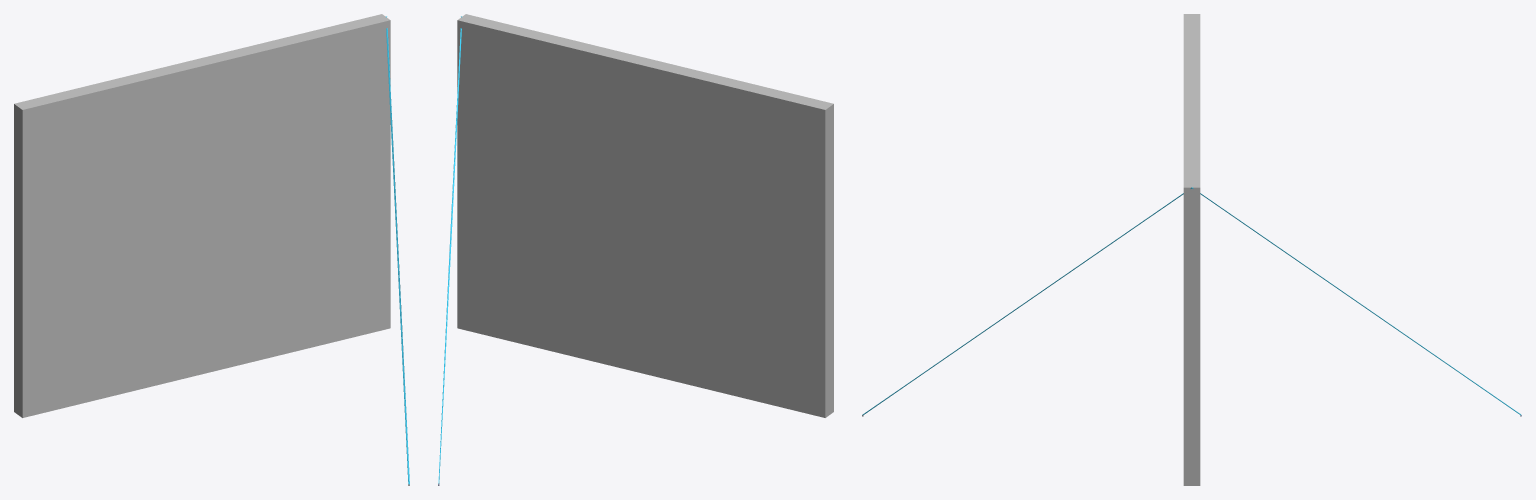
3 renders of one model, left to right at view 1: azimuth 30°, elevation 25°; view 2: azimuth 150°, elevation 25°; view 3: azimuth 270°, elevation 25°, orthographic. The views are drawn at different scales.
Parts seen in each view (by area): view 1: Part 2; view 2: Part 2; view 3: Part 2.
Boxes of the visible parts, <box> form: Part 2: <box>14,14,409,485</box>; Part 2: <box>438,14,833,483</box>; Part 2: <box>862,14,1520,485</box>.
Size of the model in its own units: 0.00251 by 0.002 by 0.00401.
